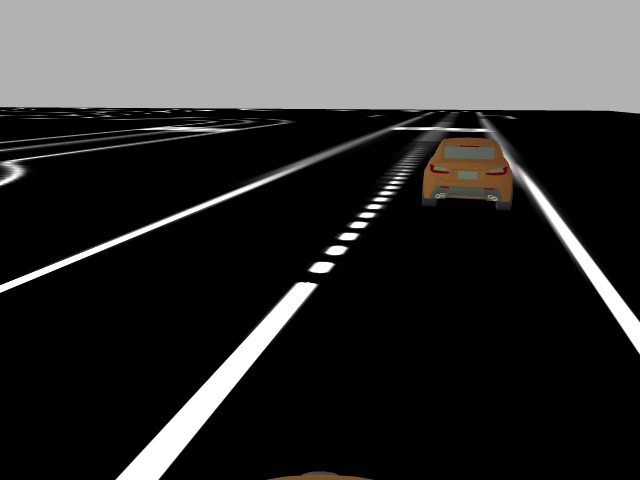obstacle_car: (420, 136, 515, 212)
